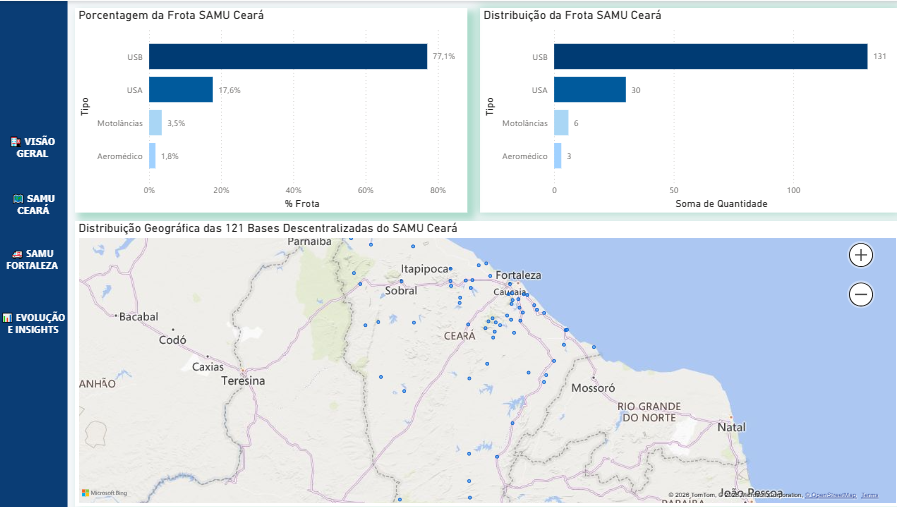

Layout of this report page (visuals, bound fields, positions):
{"tool":"powerbi","page":{"name":"SAMU Ceará","canvas":[1280,720],"ordinal":2},"visuals":[{"type":"barChart","title":"Distribuição da Frota SAMU Ceará","fields":{"Category":["Frota_SAMU2.Tipo"],"Y":["Sum(Frota_SAMU2.Quantidade)"]},"box":[684.1,9.7,594.8,289.5],"z":0},{"type":"shape","box":[0,0,100,720.2],"z":1000},{"type":"barChart","title":"Porcentagem da Frota SAMU Ceará","fields":{"Category":["Frota_SAMU2.Tipo"],"Y":["Frota_SAMU2.% Frota"]},"box":[111,9.7,556.2,289.5],"z":2000},{"type":"map","title":"Distribuição Geográfica das 121 Bases Descentralizadas do SAMU Ceará","fields":{"Y":["Bases_SAMU_CE.Latitude"],"X":["Bases_SAMU_CE.Longitude"],"Series":["Bases_SAMU_CE.Regiao"]},"box":[111,312.5,1169,405.4],"z":3000},{"type":"actionButton","box":[0,168.8,100.3,77],"z":4000},{"type":"actionButton","box":[1.2,249.5,100.3,77],"z":5000},{"type":"actionButton","box":[0,326.9,100.1,77.2],"z":6000},{"type":"actionButton","box":[1.2,417.4,100.1,77.2],"z":7000}]}

Visuals, with their boxes on the page's 1280x720 design canvas (x1, y1, x2, y2). These are canvas units, not pixel positions in the 897x507 screenshot, which may show the page scaled, cropped or inside an application window:
"Distribuição da Frota SAMU Ceará" barChart: (left=684, top=10, right=1279, bottom=299)
shape: (left=0, top=0, right=100, bottom=720)
"Porcentagem da Frota SAMU Ceará" barChart: (left=111, top=10, right=667, bottom=299)
"Distribuição Geográfica das 121 Bases Descentralizadas do SAMU Ceará" map: (left=111, top=312, right=1280, bottom=718)
actionButton: (left=0, top=169, right=100, bottom=246)
actionButton: (left=1, top=250, right=102, bottom=326)
actionButton: (left=0, top=327, right=100, bottom=404)
actionButton: (left=1, top=417, right=101, bottom=495)
